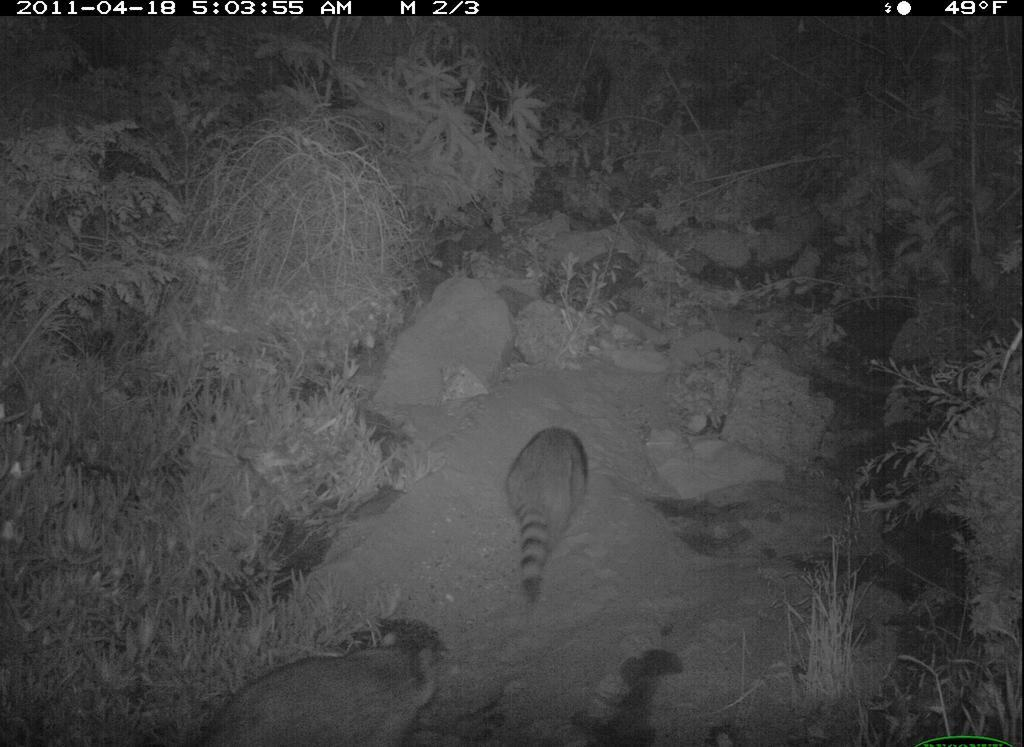raccoon: (500, 415, 600, 610)
